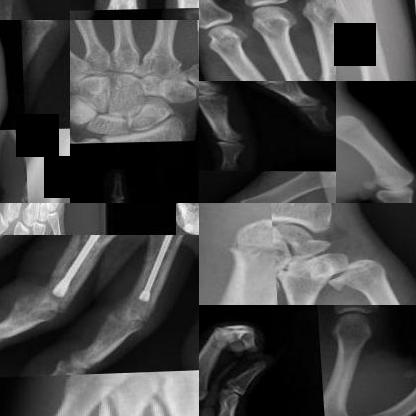fracture: (46, 235, 122, 304), (128, 235, 185, 313), (215, 235, 272, 292), (74, 387, 143, 415), (140, 387, 198, 415), (321, 271, 362, 301)
